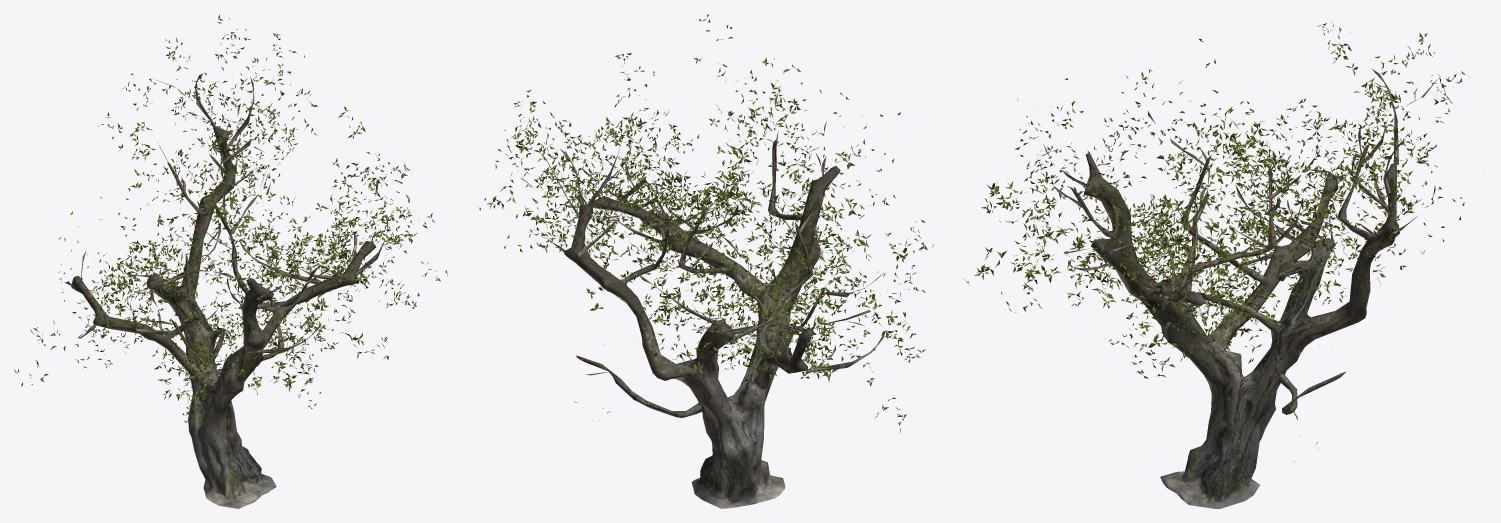
The model's file is island_tree_01.glb.
The picture shows the model from 3 angles, left to right: view 1: azimuth 30°, elevation 25°; view 2: azimuth 150°, elevation 25°; view 3: azimuth 270°, elevation 25°; orthographic projection. The views are drawn at different scales.
Parts seen in each view (by area): view 1: island_tree_01_LOD0; view 2: island_tree_01_LOD0; view 3: island_tree_01_LOD0.
Boxes of the visible parts, left/top/right/bottom form: island_tree_01_LOD0: left=14, top=14, right=447, bottom=508; island_tree_01_LOD0: left=478, top=14, right=933, bottom=508; island_tree_01_LOD0: left=963, top=22, right=1468, bottom=508.
Bounding box in the file's own units: 4.7 × 4.98 × 4.73.
3 materials, 3 textured.
